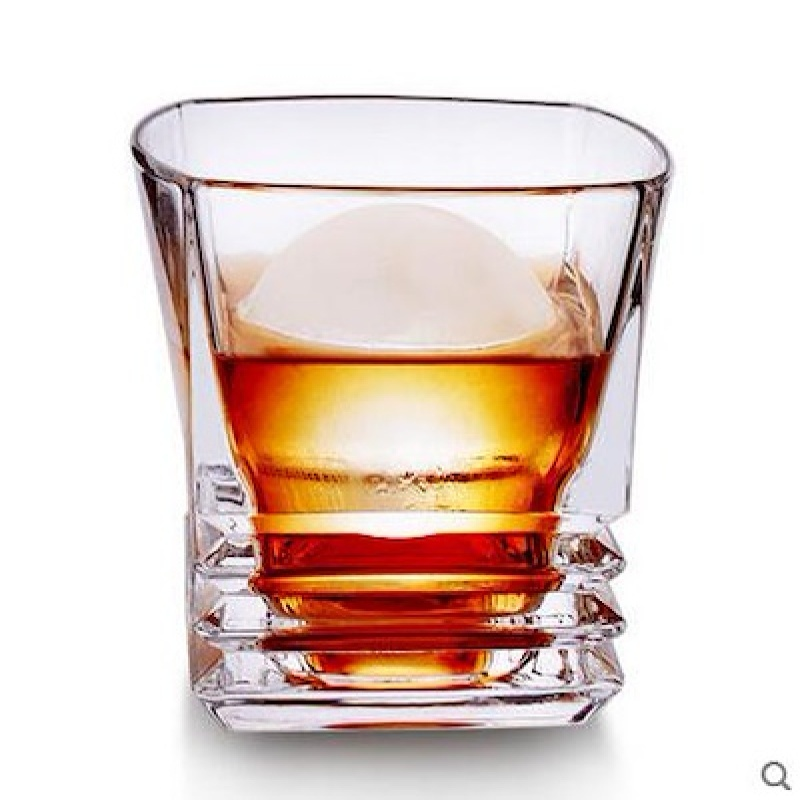whiskey: (128, 96, 671, 727)
